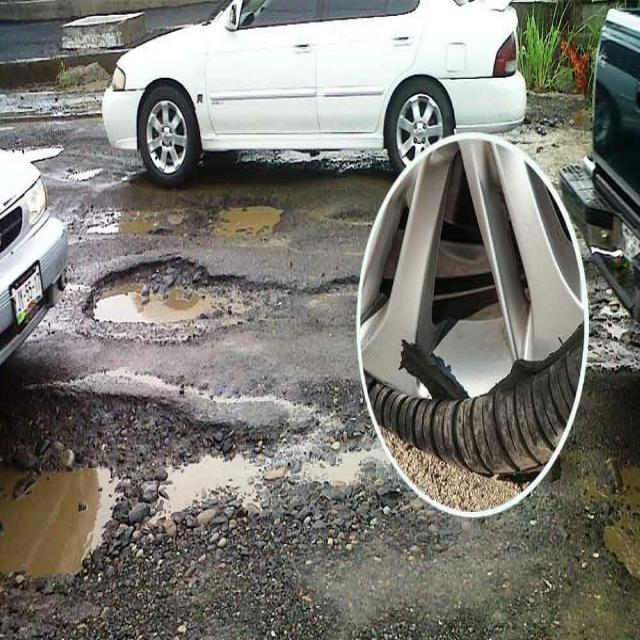Pothole: (10, 395, 330, 607), (76, 249, 368, 382), (95, 179, 381, 251)
